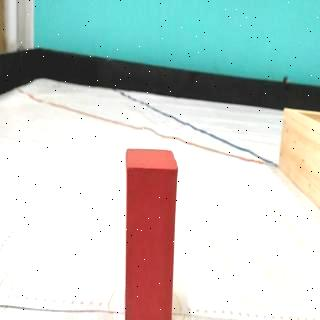redbox: (124, 146, 180, 320)
